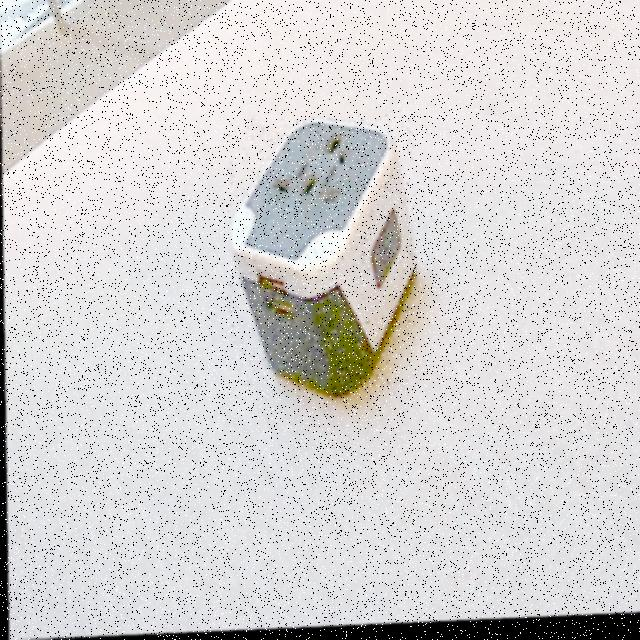adapter: (226, 114, 417, 405)
